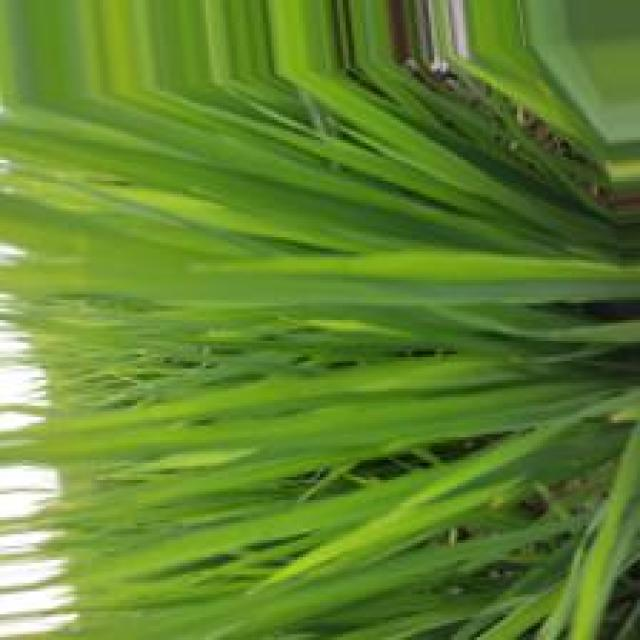HealthyLeaf: (0, 317, 630, 464), (51, 84, 373, 244), (3, 252, 639, 312)
